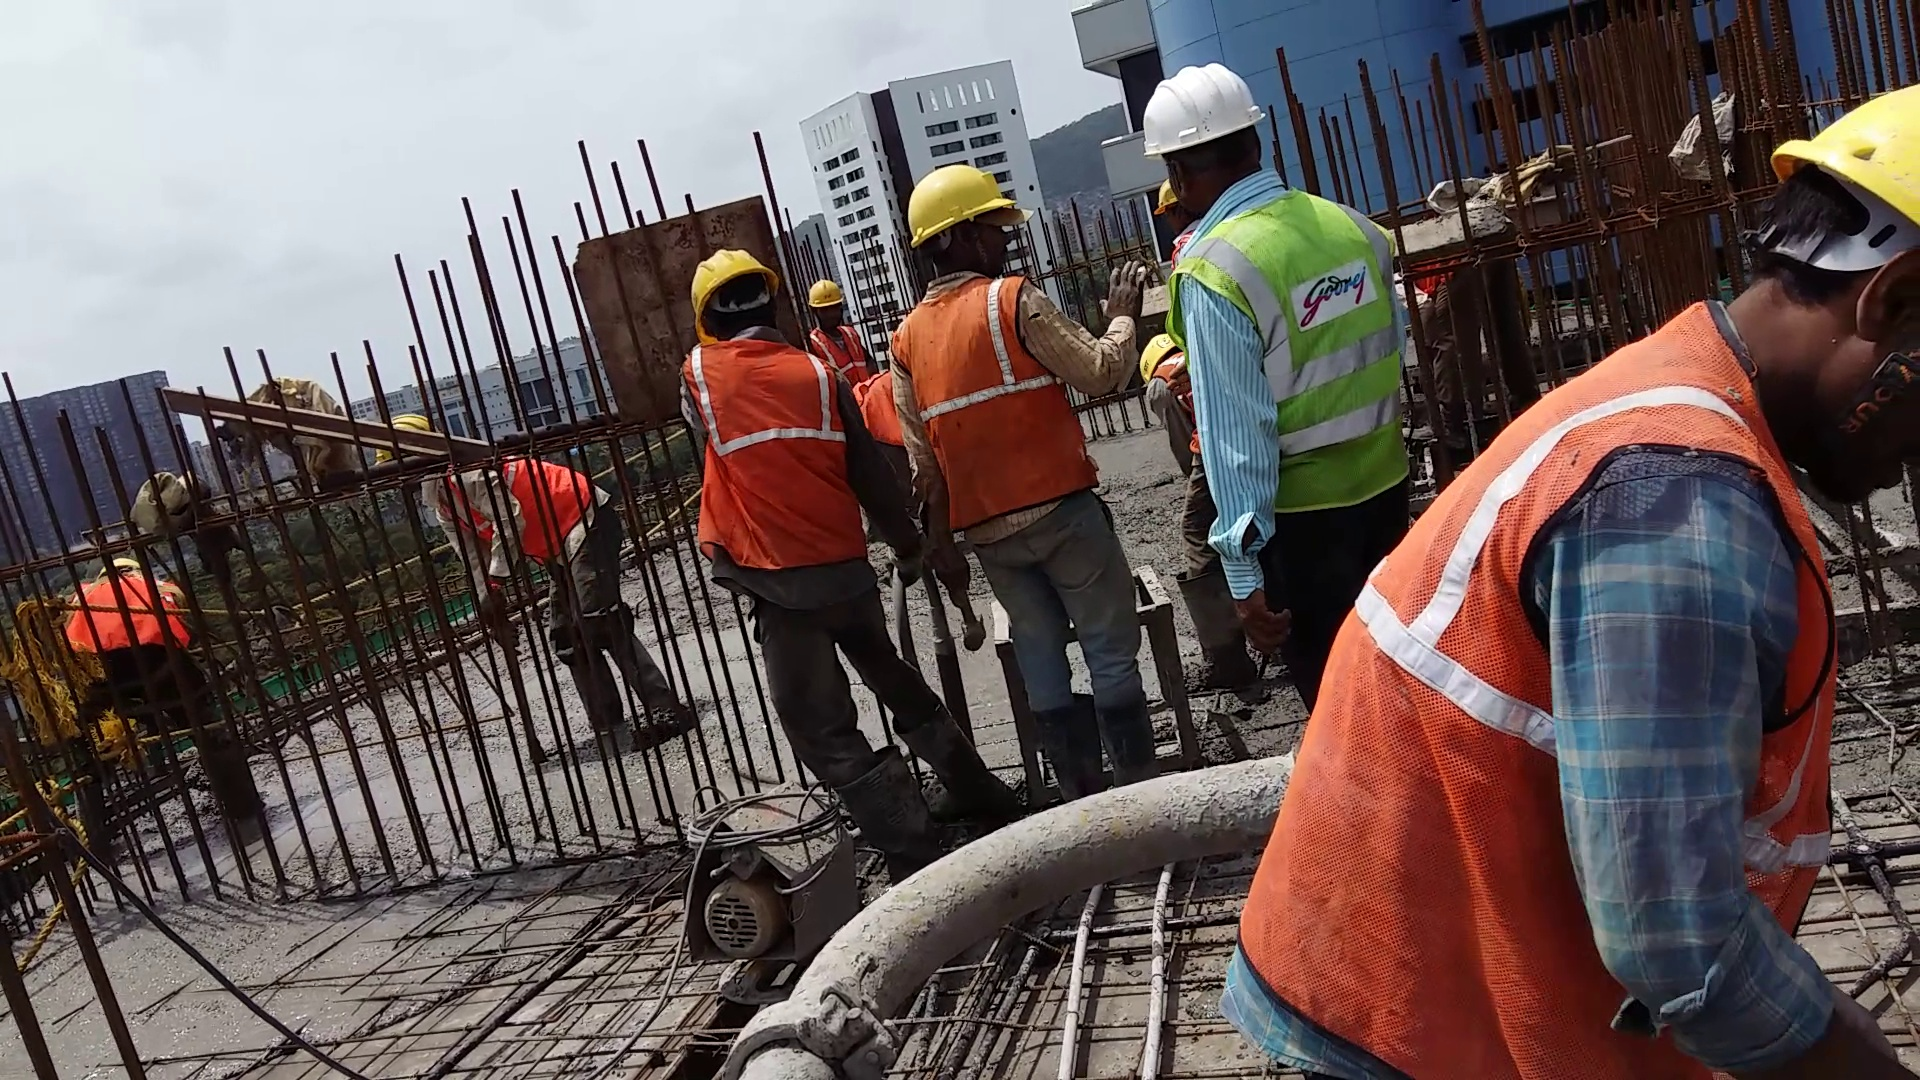SAFE: (1142, 65, 1416, 527), (886, 156, 1091, 542), (680, 245, 874, 585)
